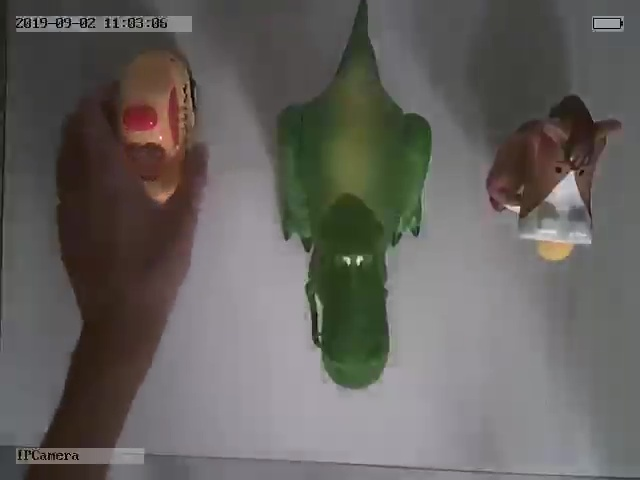horse: (485, 92, 621, 263)
rex: (273, 6, 435, 390)
